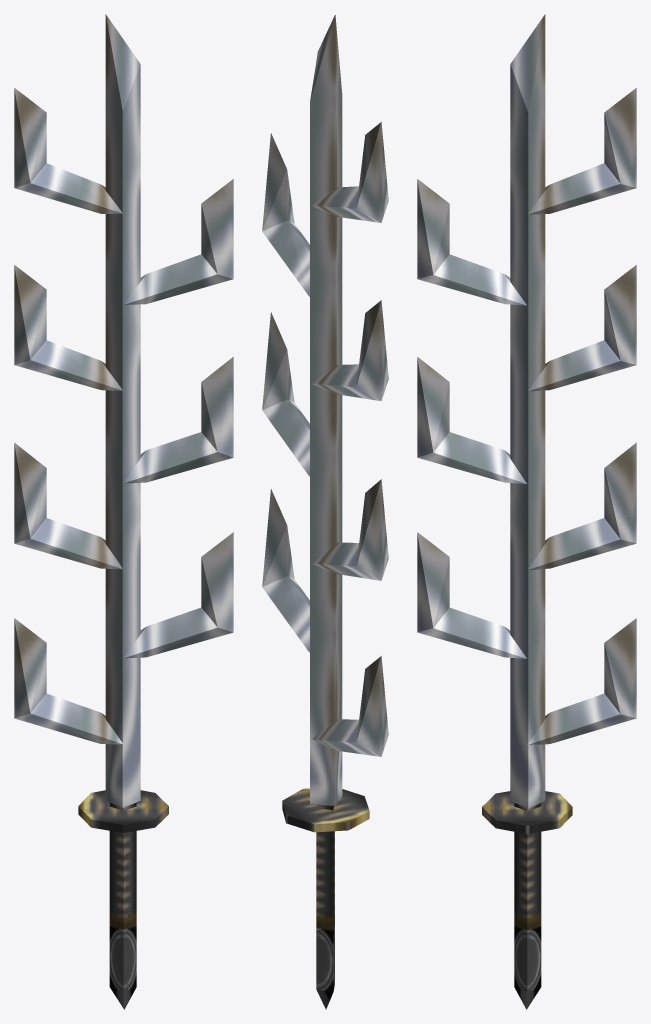
The model's file is heavybladev04.obj.
3 views of the same model, side by side, from view 1: azimuth 90°, elevation 25°; view 2: azimuth 210°, elevation 25°; view 3: azimuth 270°, elevation 25° (orthographic).
Visible parts, largest first — view 1: MDL_cw2hkt04; view 2: MDL_cw2hkt04; view 3: MDL_cw2hkt04.
Boxes of the visible parts, box(x1,y1,x2,y2) form: MDL_cw2hkt04: box(14, 14, 233, 1009); MDL_cw2hkt04: box(262, 15, 388, 1009); MDL_cw2hkt04: box(417, 14, 636, 1009).
Bounding box in the file's own units: 0.1388 × 1.7 × 0.3388.
